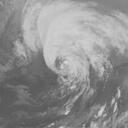cyclone: (43, 14, 111, 78)
